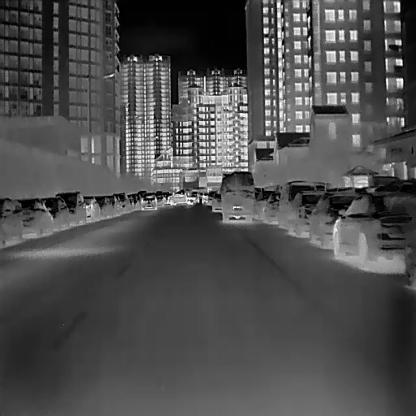car: (334, 192, 414, 260), (309, 192, 359, 245), (278, 182, 315, 228), (289, 192, 326, 234), (18, 196, 53, 239), (54, 190, 86, 228), (0, 196, 23, 247), (44, 195, 72, 232), (82, 193, 101, 225), (262, 193, 280, 222), (93, 194, 112, 220), (168, 192, 196, 206), (140, 193, 157, 211), (212, 192, 221, 211)
truck: (221, 169, 254, 221)
